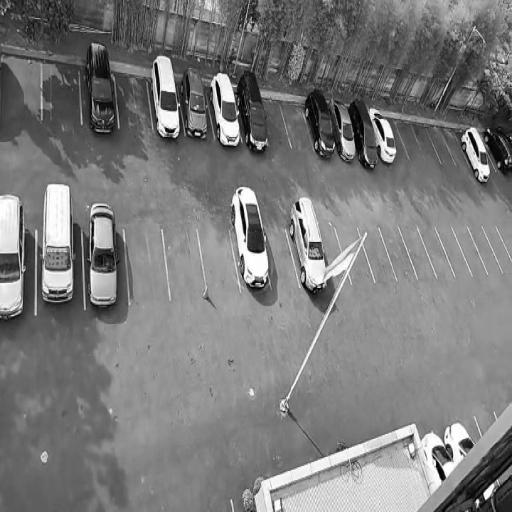Car: (38, 179, 82, 313), (226, 181, 275, 292), (283, 191, 332, 301), (83, 198, 121, 310), (0, 189, 28, 322), (83, 35, 117, 138), (233, 68, 272, 154), (147, 54, 184, 141), (205, 70, 244, 146), (301, 87, 339, 162), (345, 97, 382, 171), (178, 64, 213, 142), (420, 427, 458, 489), (326, 95, 359, 162), (459, 123, 494, 186), (367, 105, 399, 166), (481, 118, 512, 177), (440, 418, 478, 465)
Space Available: (123, 227, 169, 304), (161, 226, 206, 299), (0, 52, 41, 125), (197, 228, 240, 290), (41, 60, 81, 122), (334, 226, 374, 285), (357, 225, 397, 283), (263, 227, 299, 290), (378, 225, 417, 281), (399, 227, 437, 280), (114, 76, 152, 129), (417, 227, 455, 278), (319, 227, 351, 287), (435, 226, 472, 277), (451, 226, 488, 275), (467, 226, 503, 275), (279, 101, 313, 150), (261, 95, 291, 147), (482, 225, 512, 275), (395, 121, 426, 162), (425, 125, 456, 164), (438, 127, 469, 165), (411, 123, 441, 162), (388, 116, 409, 161), (474, 409, 498, 438), (497, 224, 512, 262)
